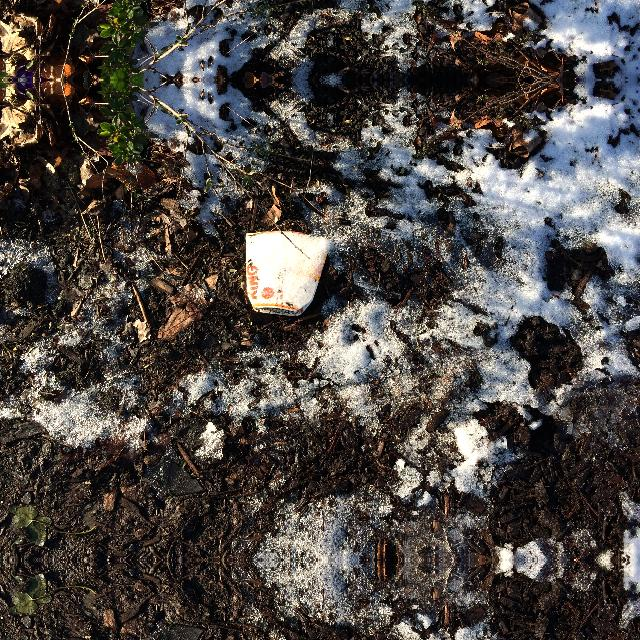Plastic: (235, 220, 342, 326)
